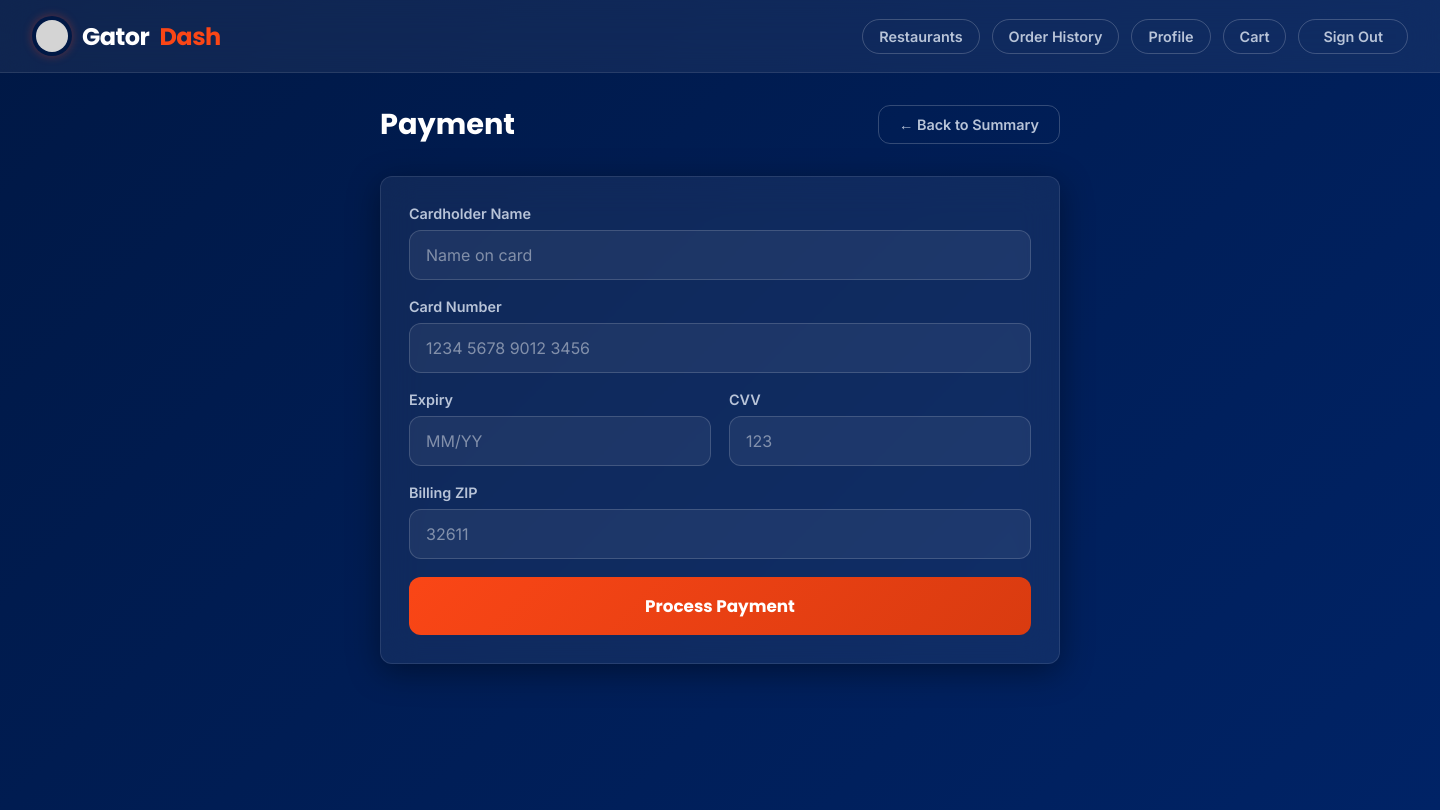
Payment Component › shows validation errors for empty form submit
Click the button "Process Payment" at (720, 606), box [409, 577, 1031, 635]
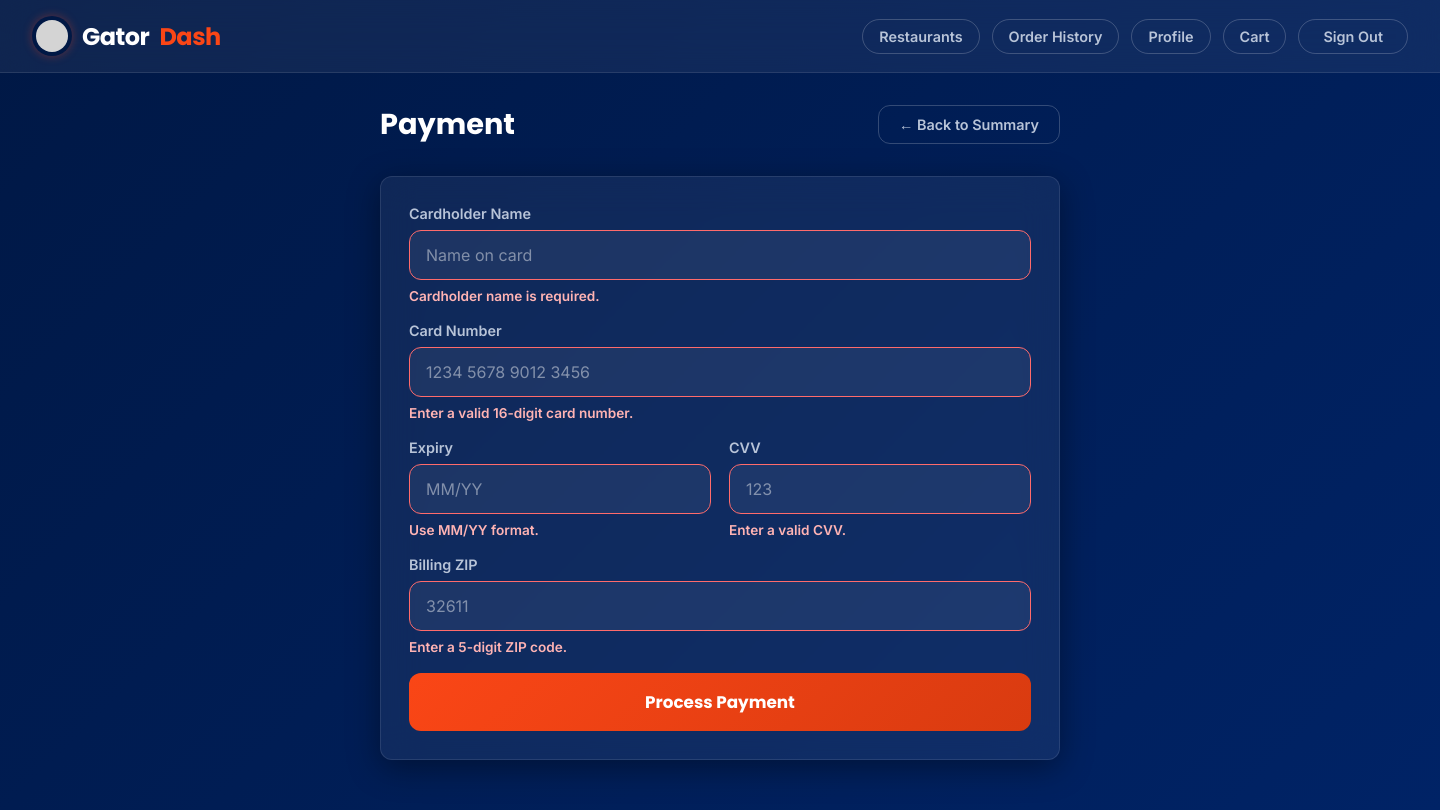
Expected: the text "Cardholder name is required." is shown, [409, 288, 600, 304]
Expected: the text "Enter a valid 16-digit card number." is shown, [409, 405, 633, 421]
Expected: the text "Use MM/YY format." is shown, [409, 522, 539, 538]
